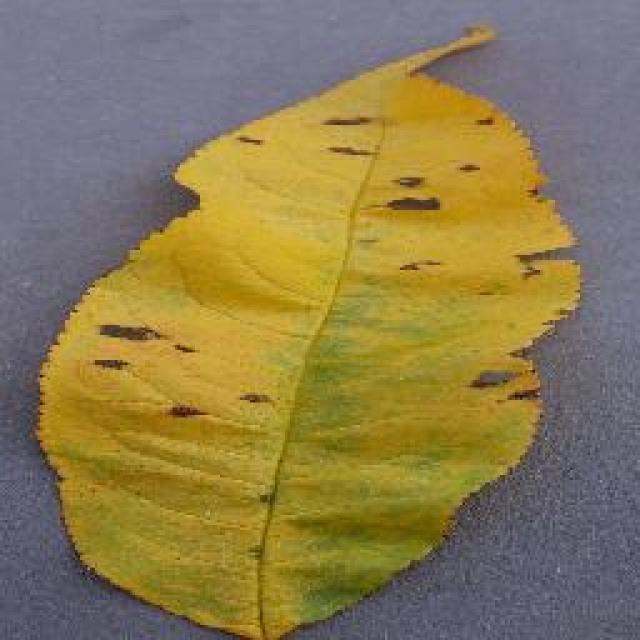Peach_Bacterial_Spot: (192, 137, 538, 553)
